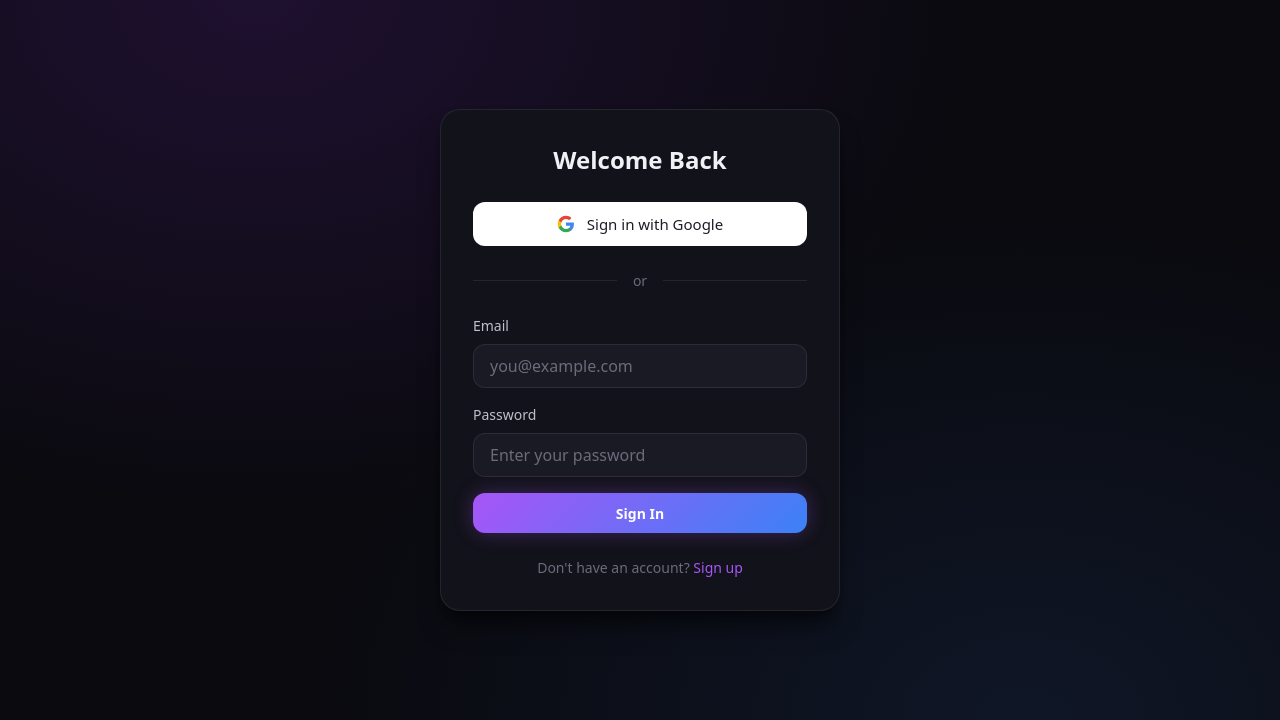
Test case: LoginPage › form validation › should show error for invalid email format
Type "test@localhost" into the field labelled "Email" at (640, 366), box x1=473 y1=344 x2=807 y2=388
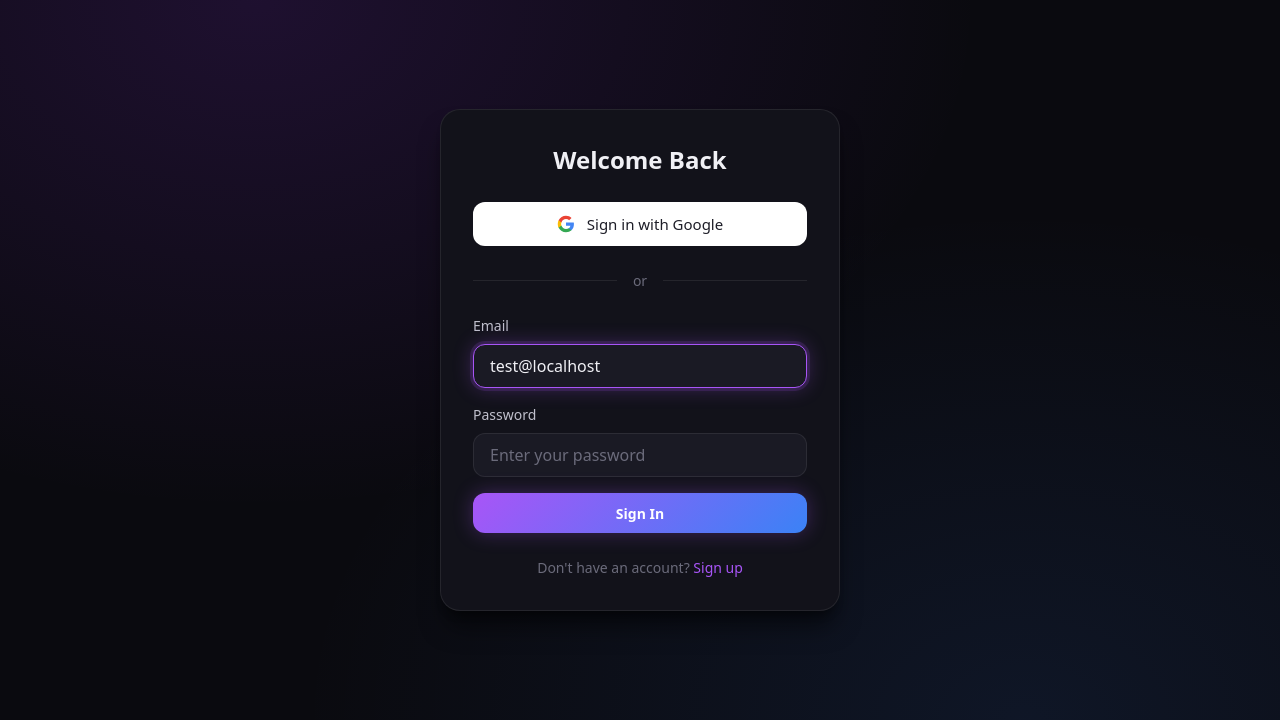
Type "password123" into the password field labelled "Password" at (640, 455), box x1=473 y1=433 x2=807 y2=477
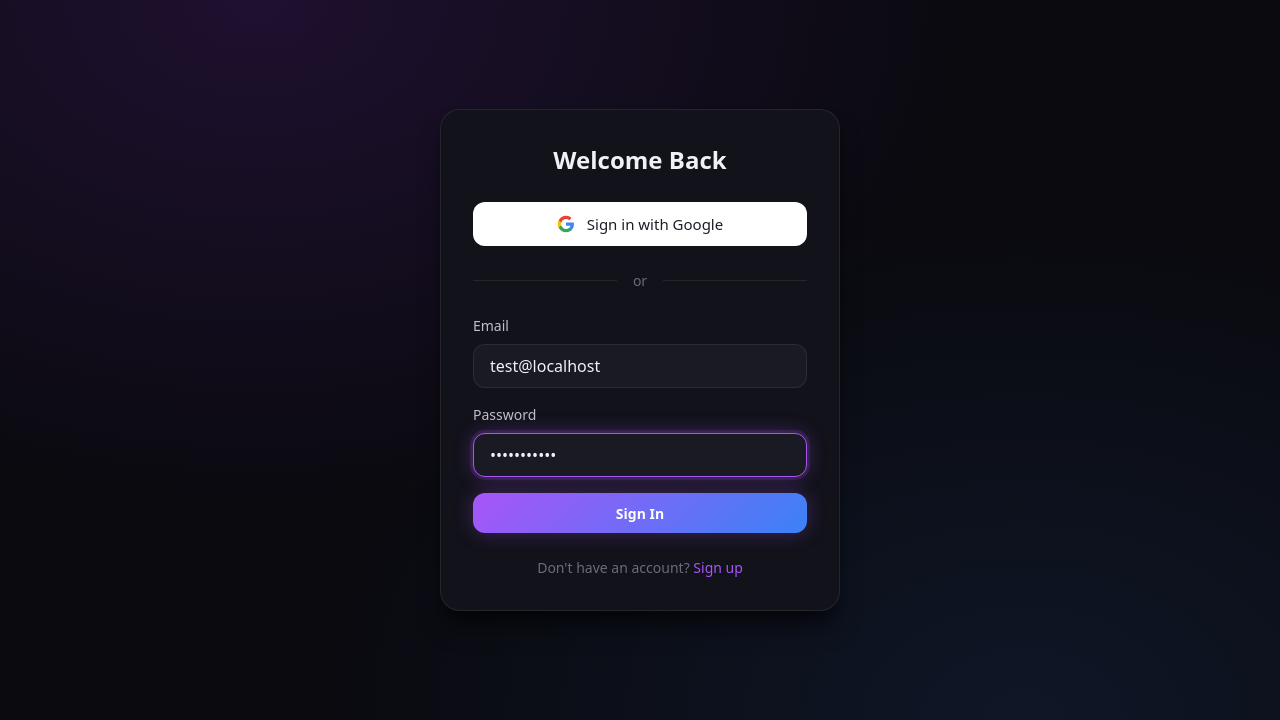
Submit the form
Click the button "Sign In" at (640, 513), box x1=473 y1=493 x2=807 y2=533
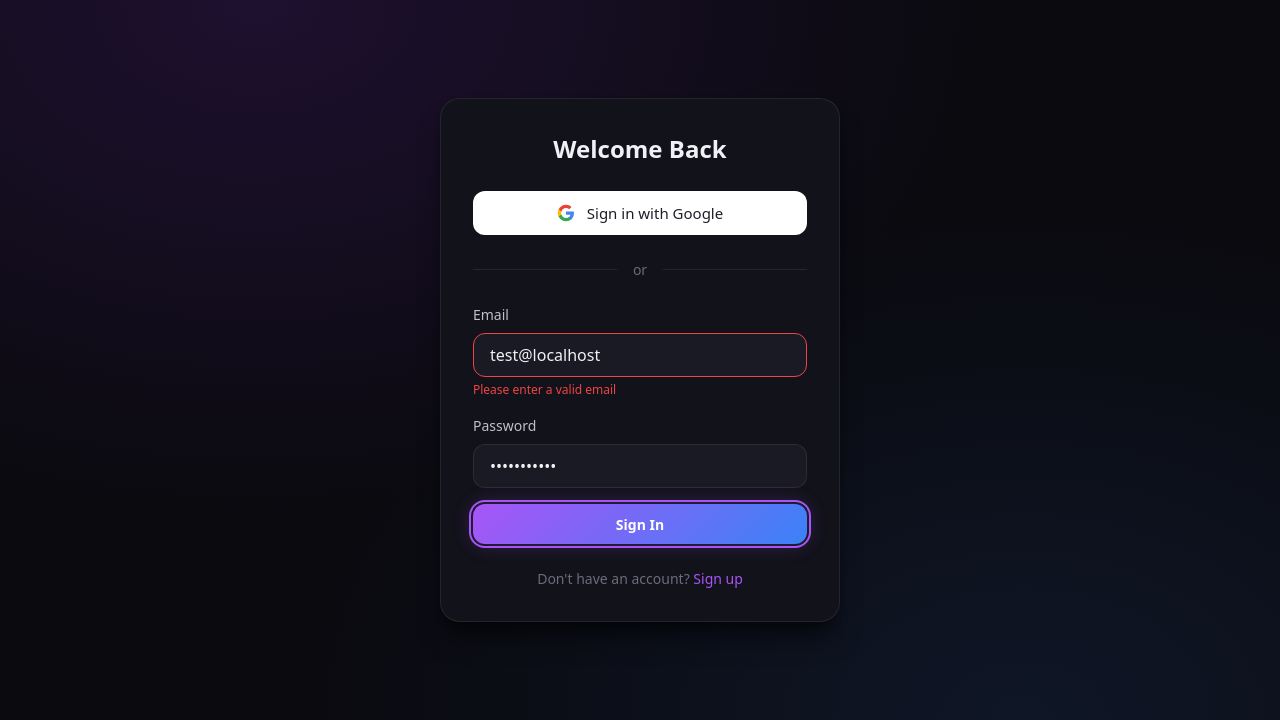
Check: the text "Please enter a valid email" is shown, box x1=473 y1=381 x2=616 y2=398
